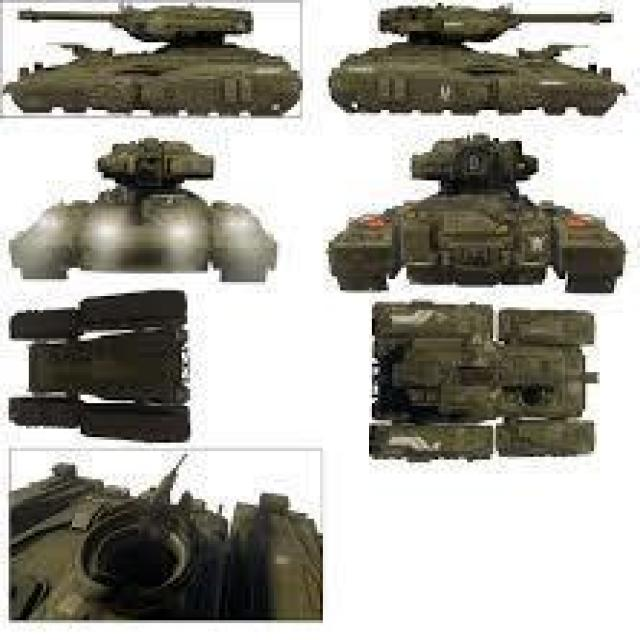Tanks: (9, 448, 323, 620), (324, 131, 630, 289), (6, 140, 282, 289), (366, 297, 603, 464), (324, 4, 630, 117), (12, 4, 306, 120), (9, 293, 193, 440)
